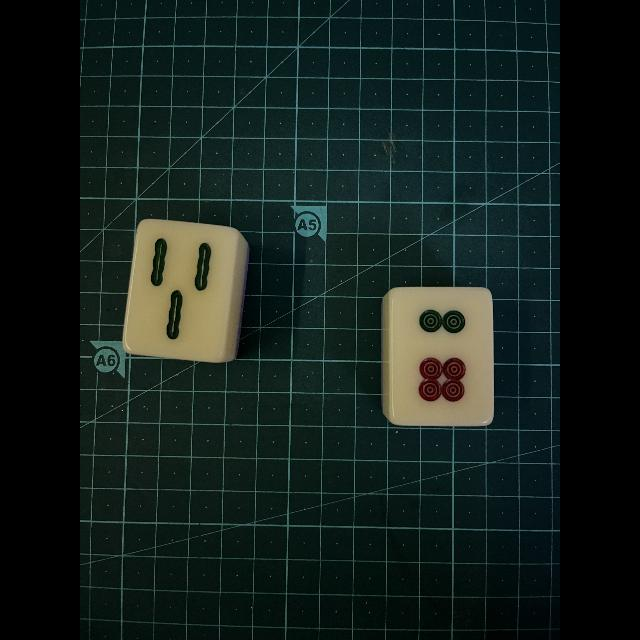b3: (133, 222, 227, 356)
d6: (393, 290, 492, 422)
